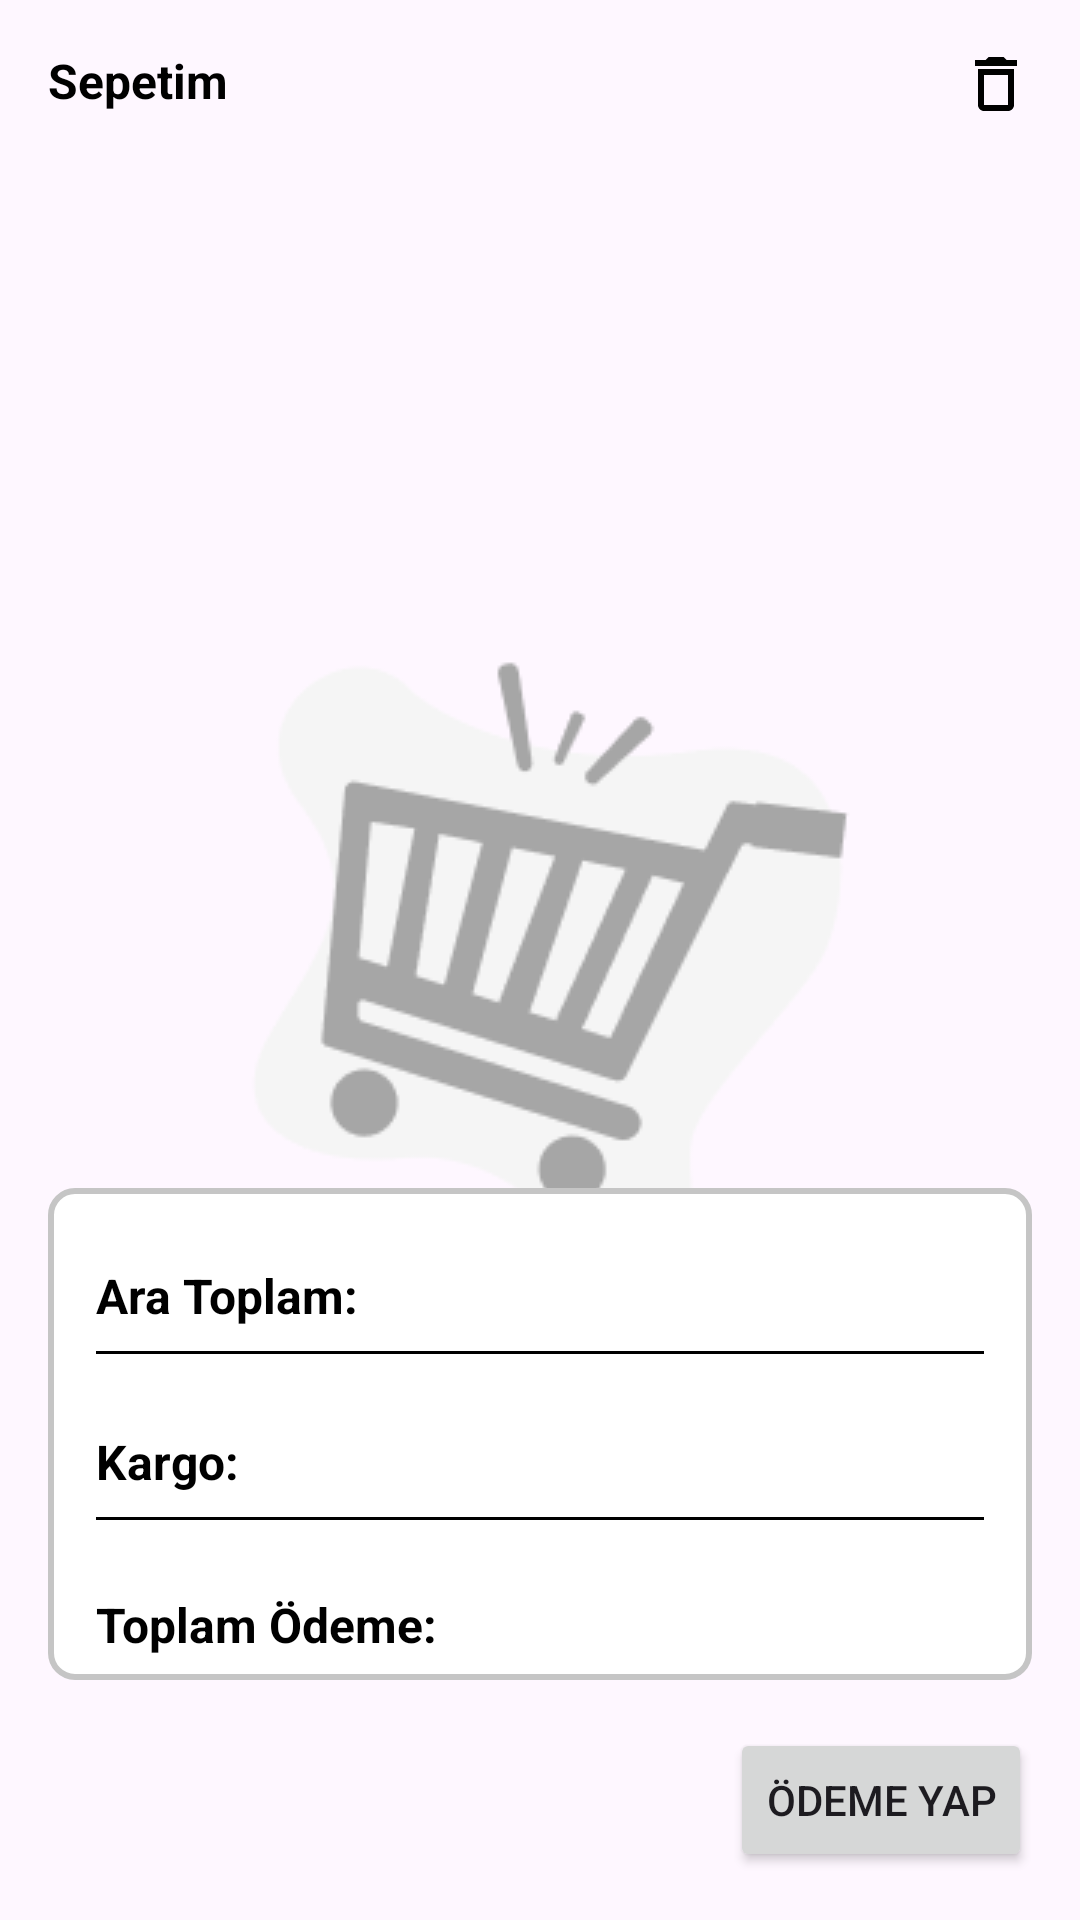

Icons on this 1080 x 1920 Android screen, each with the point to tap as [x,y]:
delete: [996,84]
